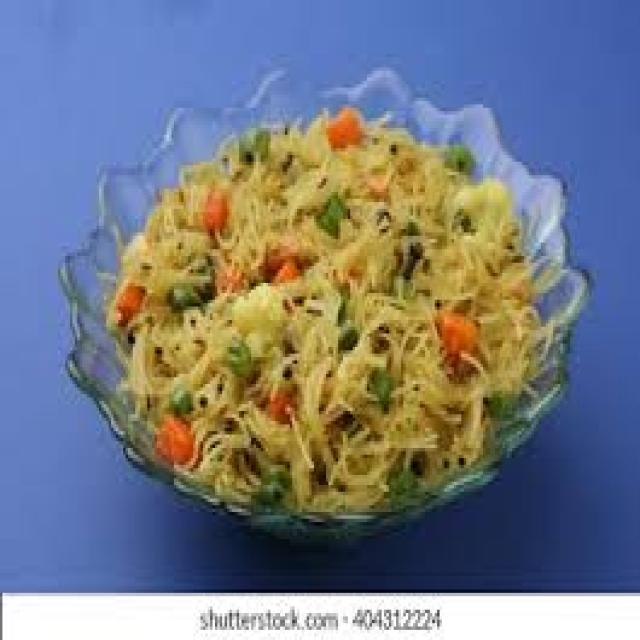POHA: (101, 108, 543, 509)
